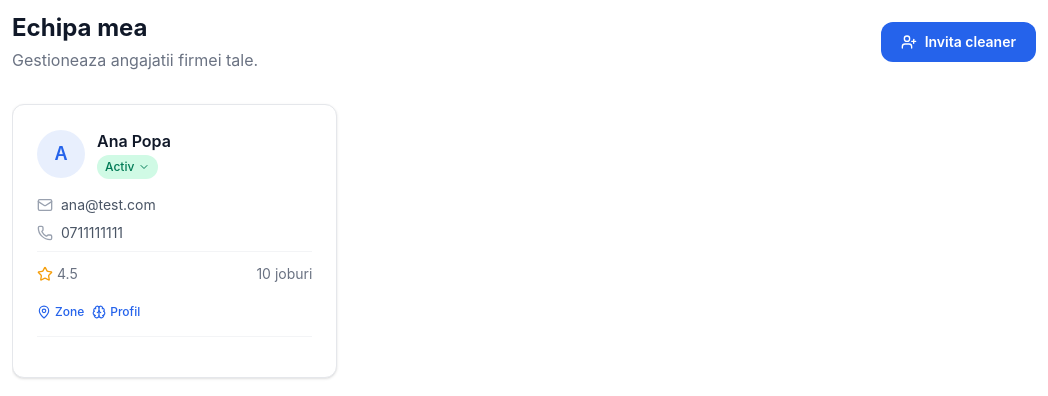
Test: TeamPage › shows status change buttons for active cleaners
The width and height of the screenshot is (1048, 396).
Note: Click the status badge to open dropdown
Click the button "Activ": (128, 167) [97, 155, 158, 179]
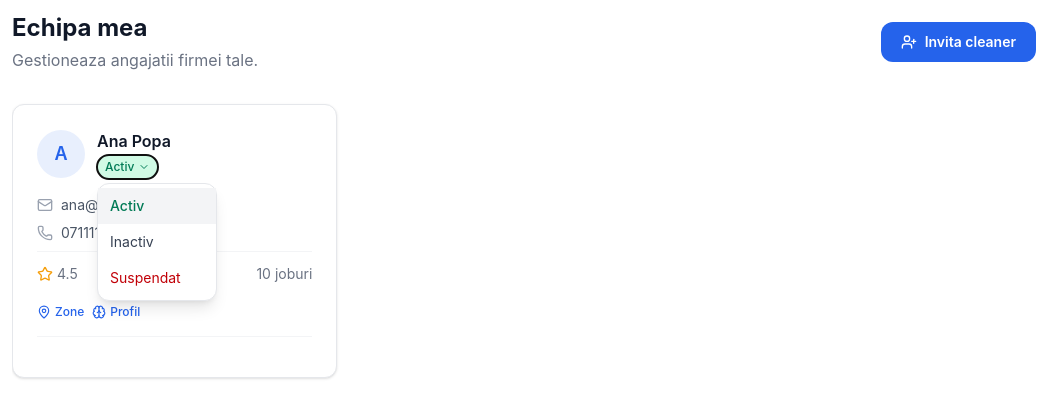
Now the text "Inactiv" is shown, box [110, 233, 154, 250]
Now the text "Suspendat" is shown, box [110, 269, 181, 286]
